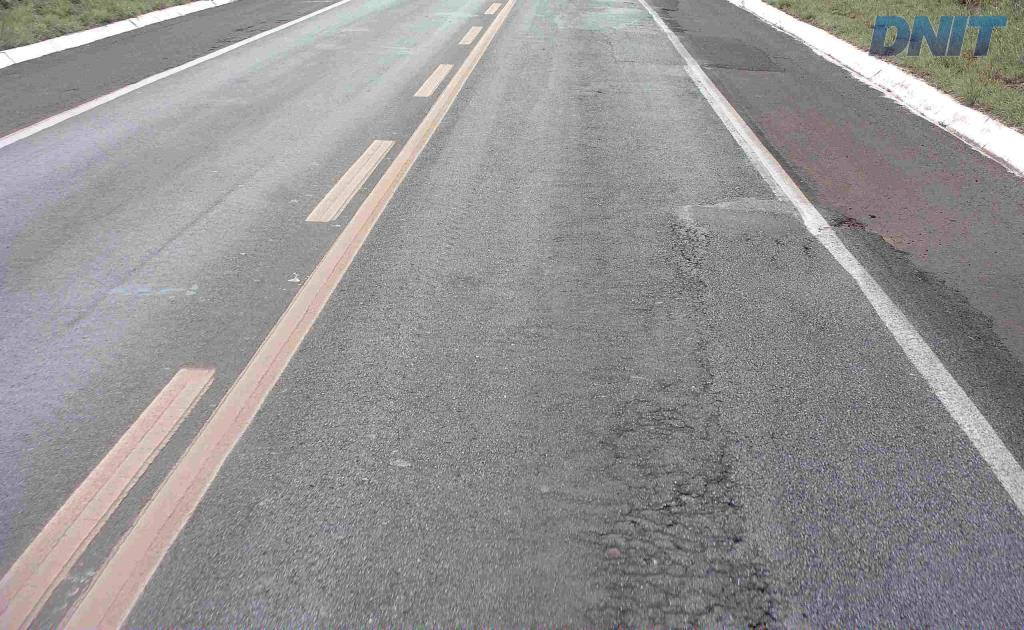crack: (642, 438, 745, 534), (671, 554, 781, 629), (634, 404, 720, 443), (602, 543, 668, 577), (602, 602, 635, 629)
